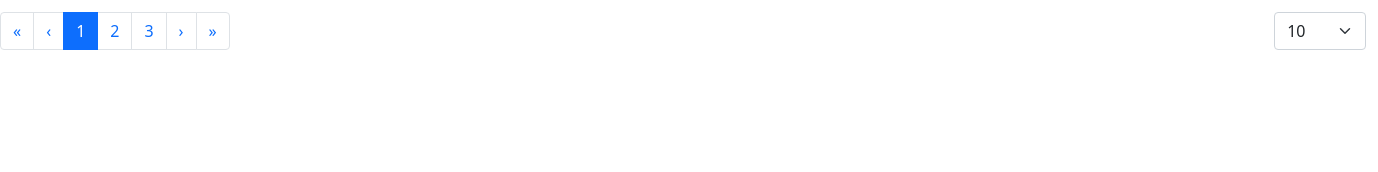
Test: Pagination › Set members per page
The image size is (1378, 172).
Select "30" in the dropdown: (1320, 31) [1274,12,1366,50]
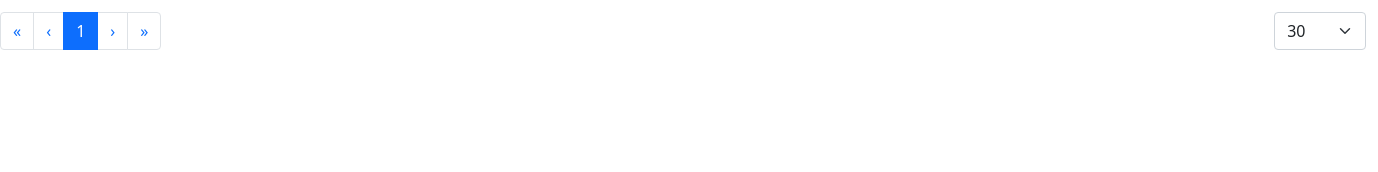
Expected: the number of list items is 5, [0,12,34,50]; [34,12,64,50]; [64,12,98,50]; [98,12,128,50]; [128,12,162,50]
